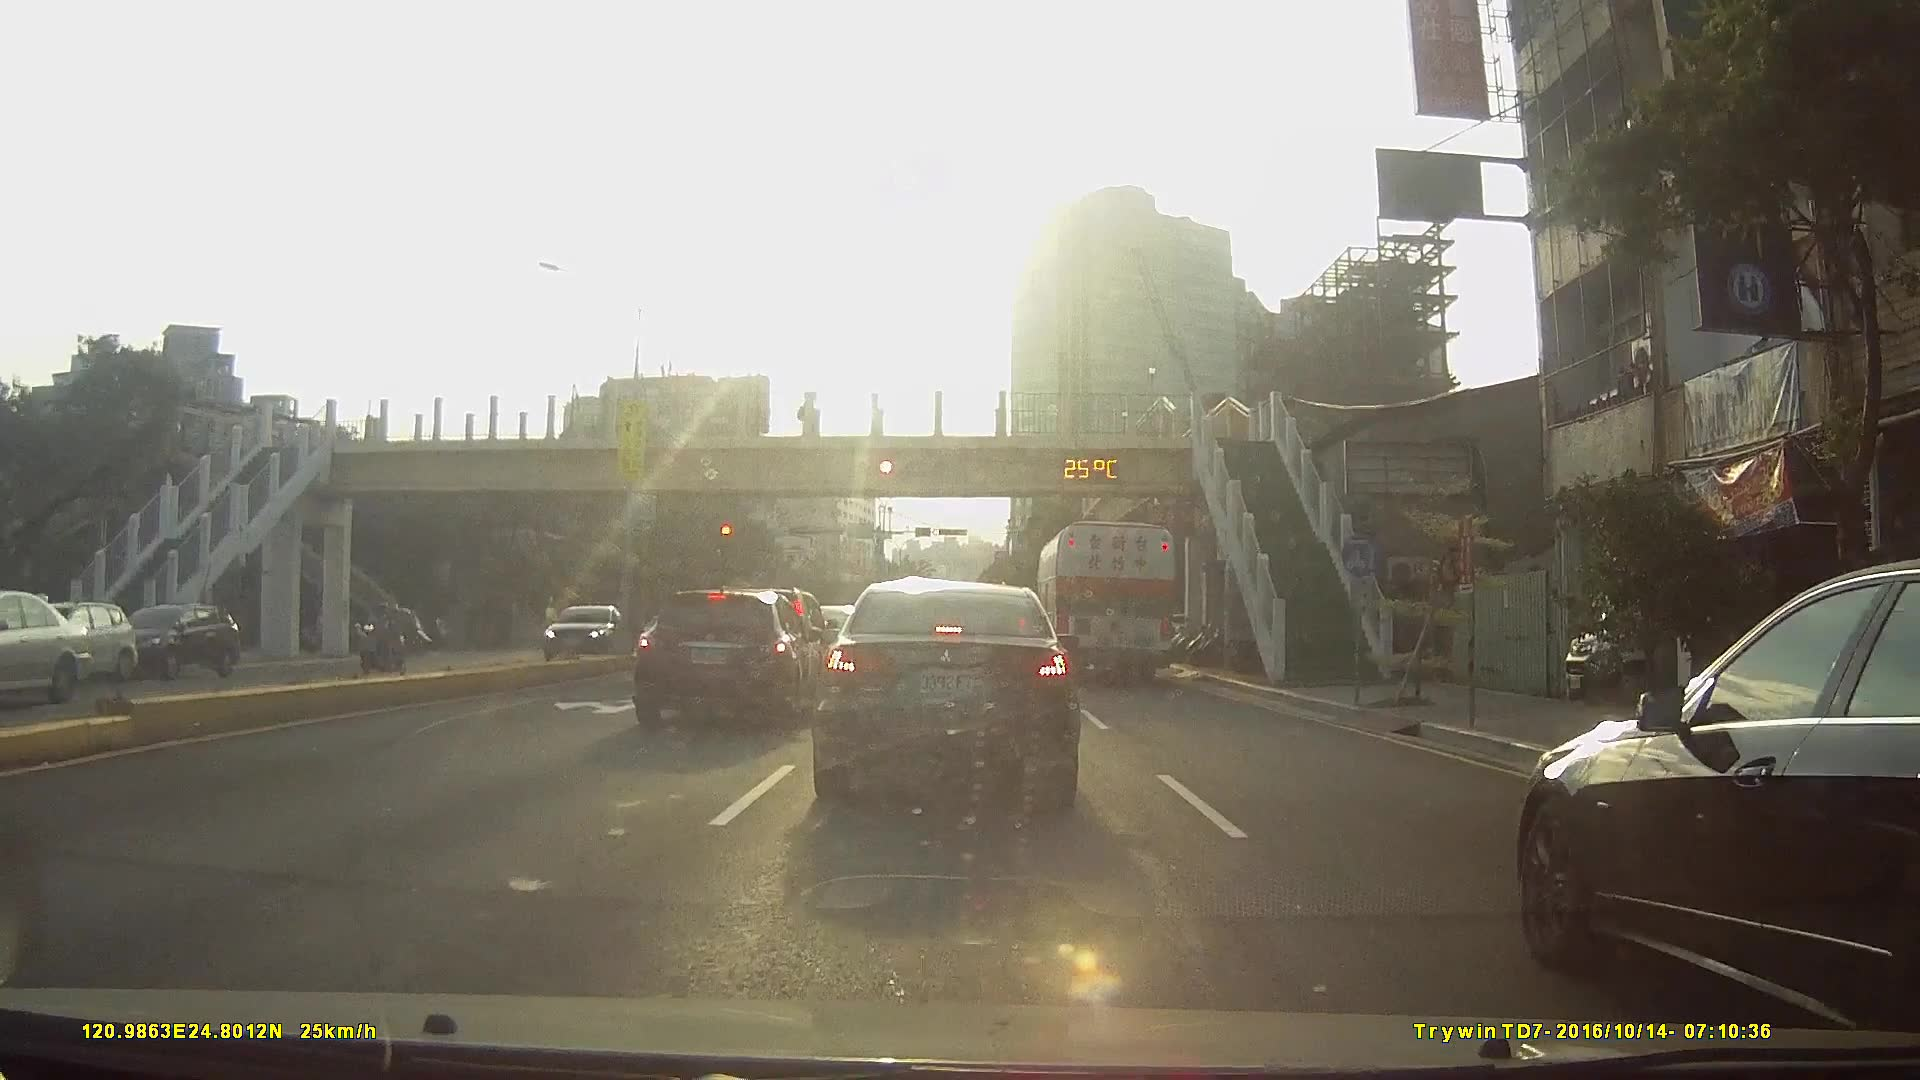pedestrian: (799, 393, 820, 441)
rider: (358, 595, 406, 677)
vehicle: (1508, 558, 1920, 1049), (809, 579, 1082, 808), (626, 585, 823, 731), (1037, 520, 1179, 686), (6, 598, 135, 687), (106, 601, 238, 678), (0, 588, 71, 706), (534, 605, 627, 660)
